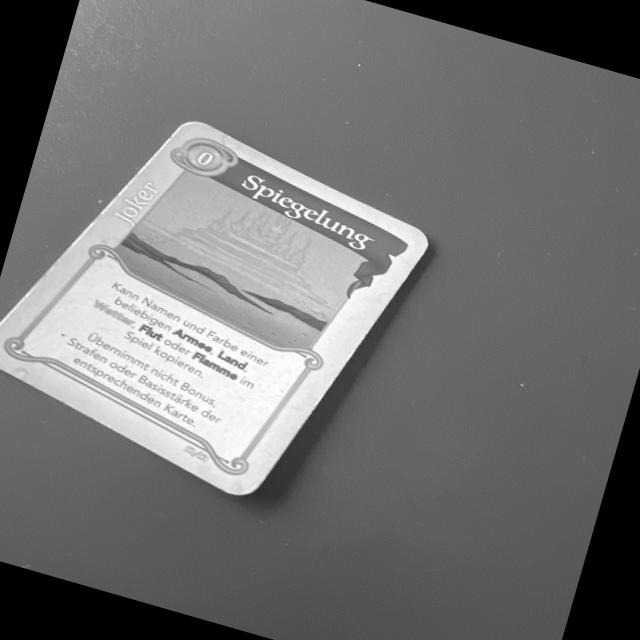Mirage: (0, 112, 436, 506)
